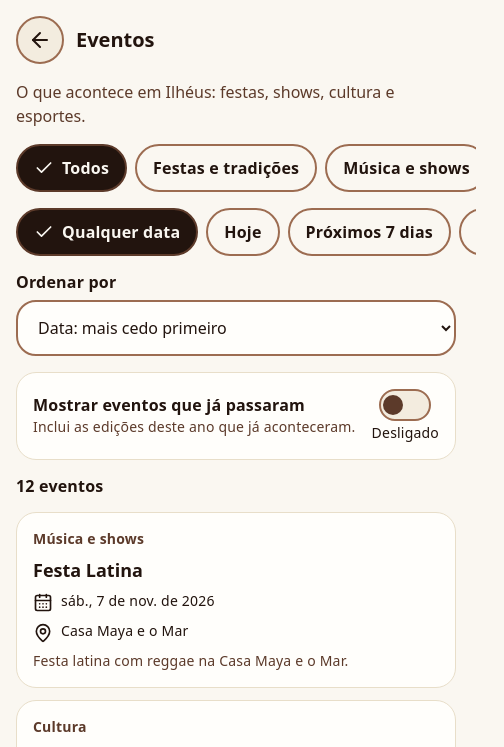
it: EventsScreen › filters by category and marks only that chip
Click the button "Música e shows" at (407, 168), box [325,144,488,192]
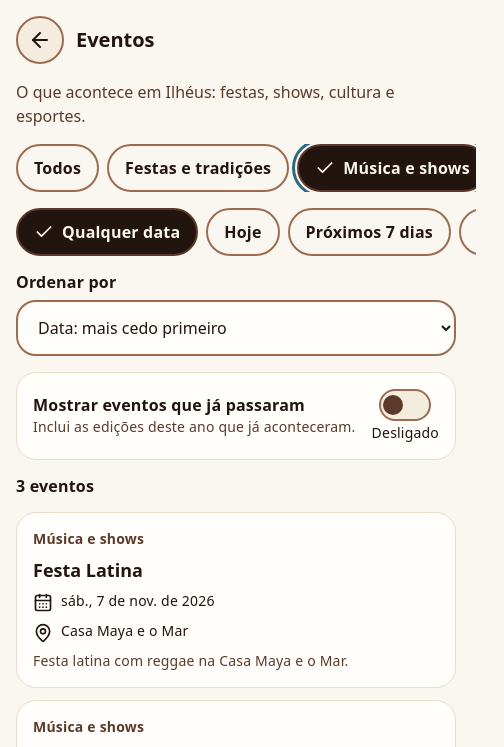
Result: the text "3 eventos" is shown at [16,475,94,497]
